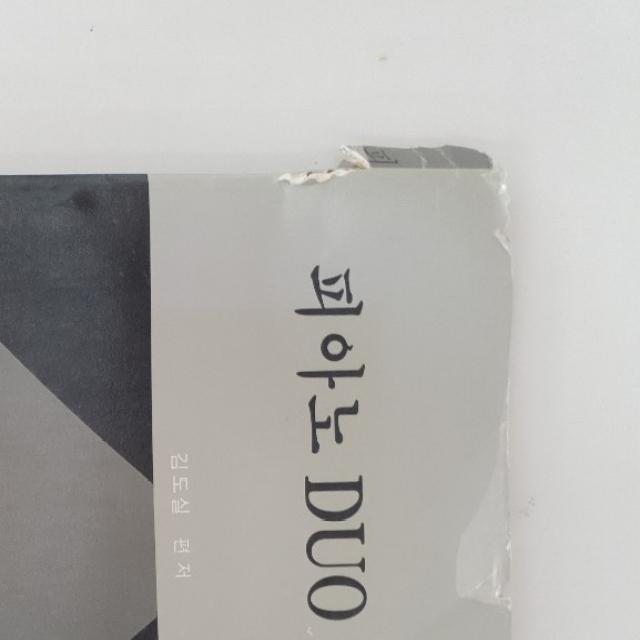Ripped: (266, 136, 517, 266), (450, 371, 518, 620)
